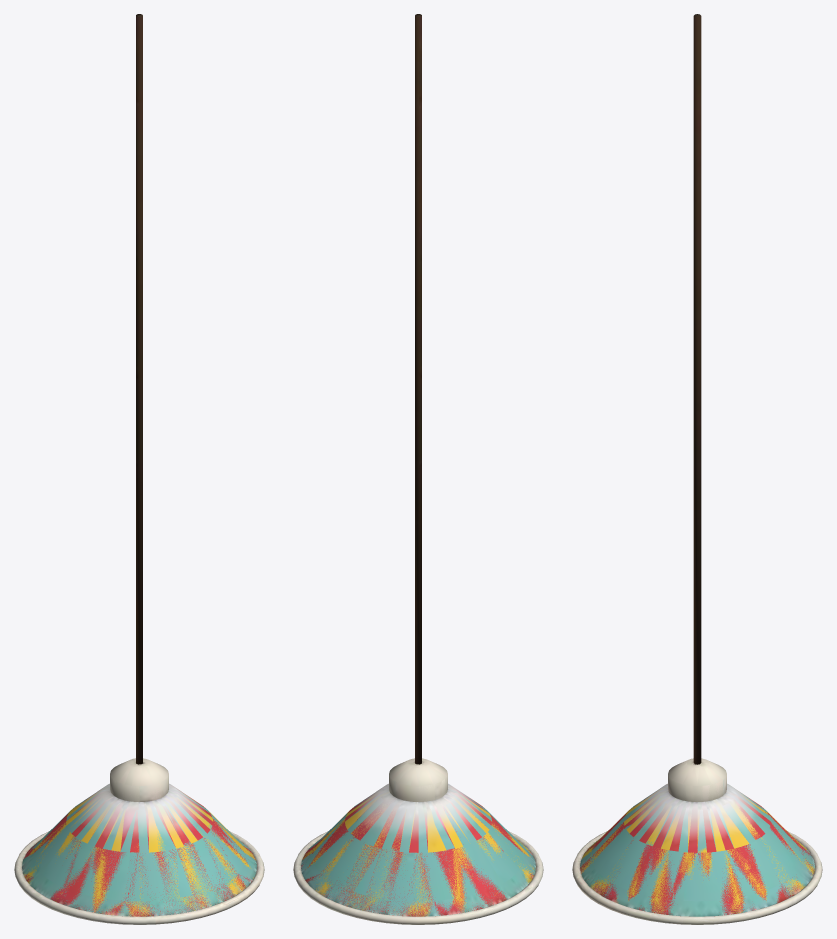
File: lamp.glb
The picture shows the model from 3 angles, left to right: view 1: azimuth 30°, elevation 25°; view 2: azimuth 150°, elevation 25°; view 3: azimuth 270°, elevation 25°; orthographic projection.
Visible parts, largest first — view 1: lamp_mint, lamp_red, lamp_yellow; view 2: lamp_mint, lamp_red, lamp_yellow; view 3: lamp_mint, lamp_red, lamp_yellow.
Part boxes in pixels (x1=…): lamp_mint: x1=14, y1=14, x2=264, y2=924; lamp_red: x1=15, y1=14, x2=264, y2=924; lamp_yellow: x1=14, y1=758, x2=261, y2=924; lamp_mint: x1=293, y1=14, x2=543, y2=924; lamp_red: x1=294, y1=14, x2=543, y2=924; lamp_yellow: x1=293, y1=758, x2=542, y2=924; lamp_mint: x1=572, y1=14, x2=822, y2=924; lamp_red: x1=572, y1=14, x2=822, y2=924; lamp_yellow: x1=573, y1=758, x2=821, y2=924.
Size of the model in its own units: 1.7 by 6.43 by 1.7.
Materials: 3 (3 with a texture image).
